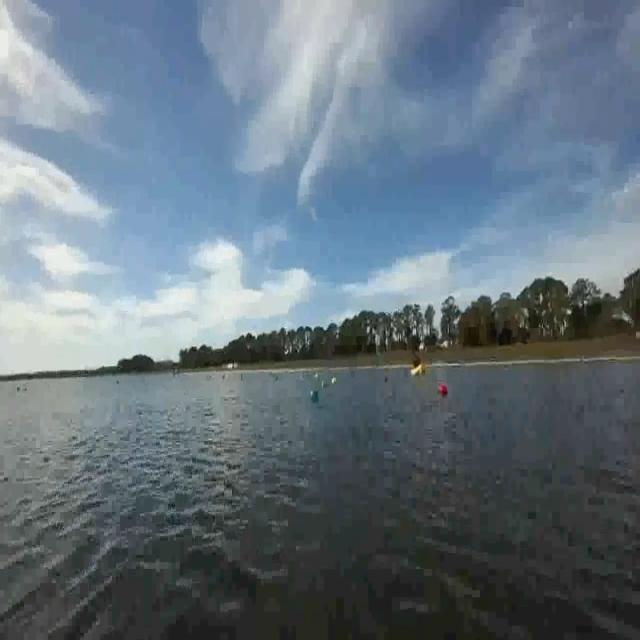green-buoy: (308, 382, 320, 404)
red-buoy: (436, 380, 449, 396)
